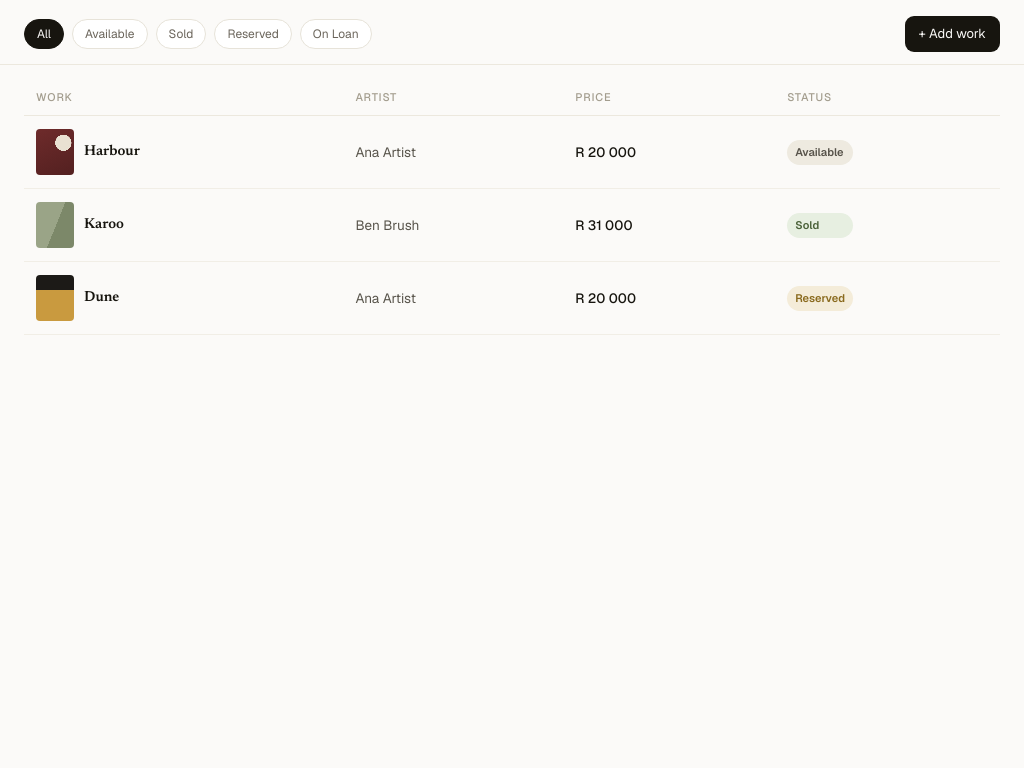
CataloguePanel adding › uses a generic message for non-Error failures
Click the button "+ Add work" at (952,34), box [905,16,1000,52]
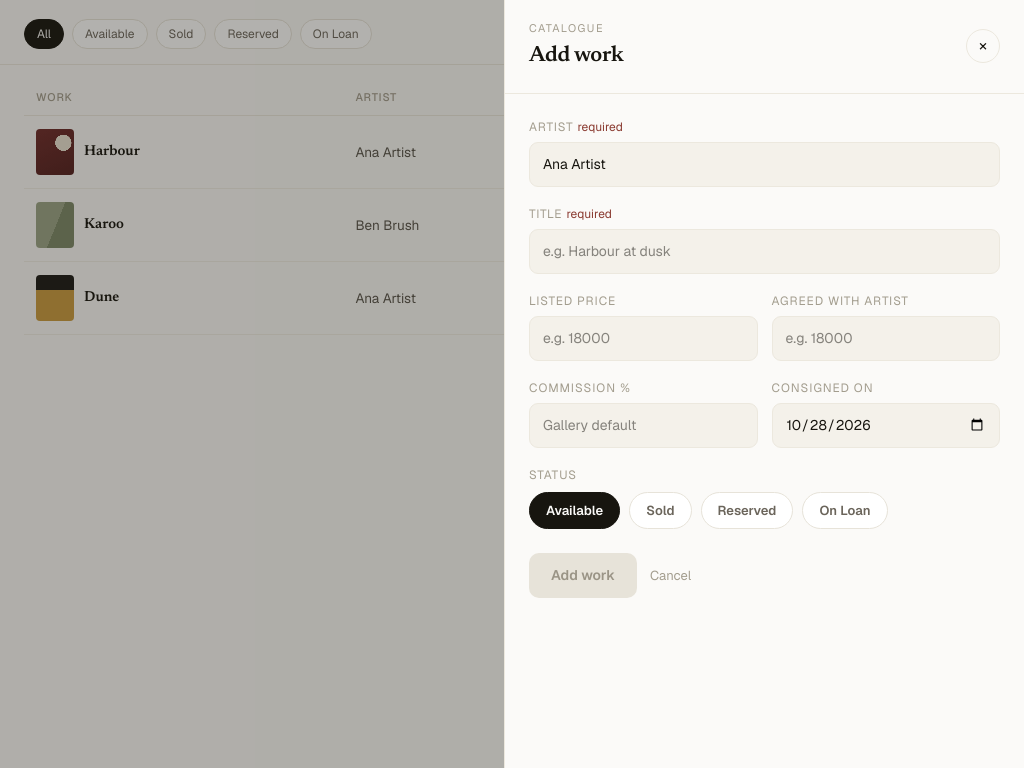
Type "Dusk" into the field labelled "Title required" at (764,251), box [529,228,1000,274]
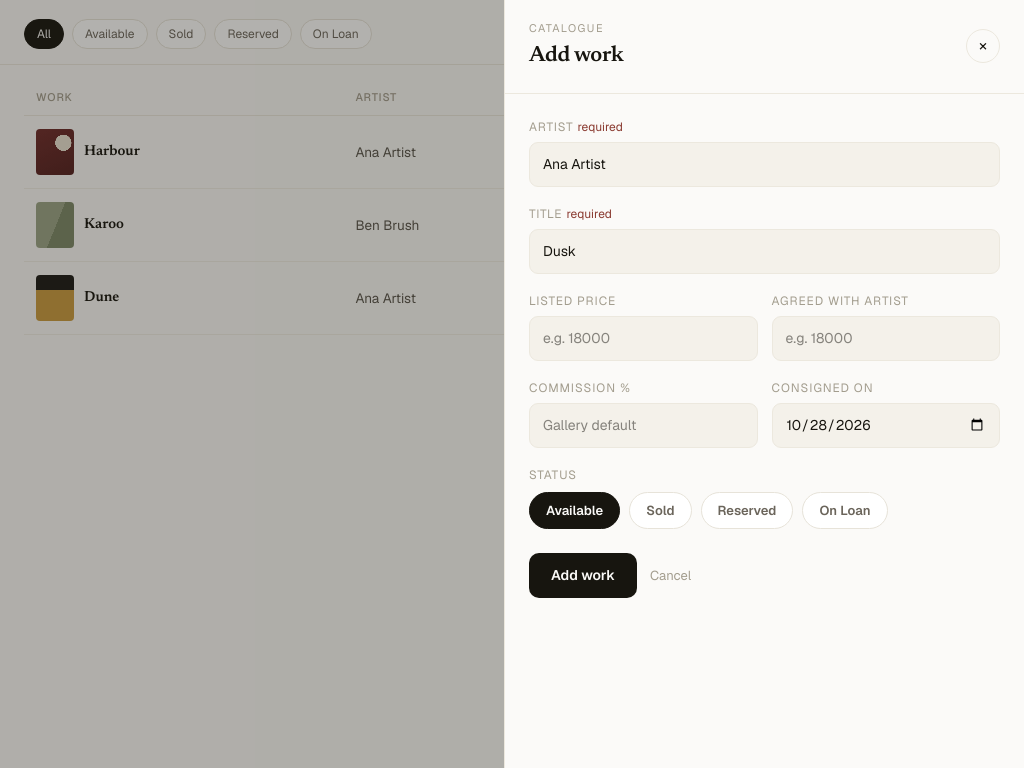
Type "12000" into the field labelled "Listed price" at (643,338), box [529,316,758,360]
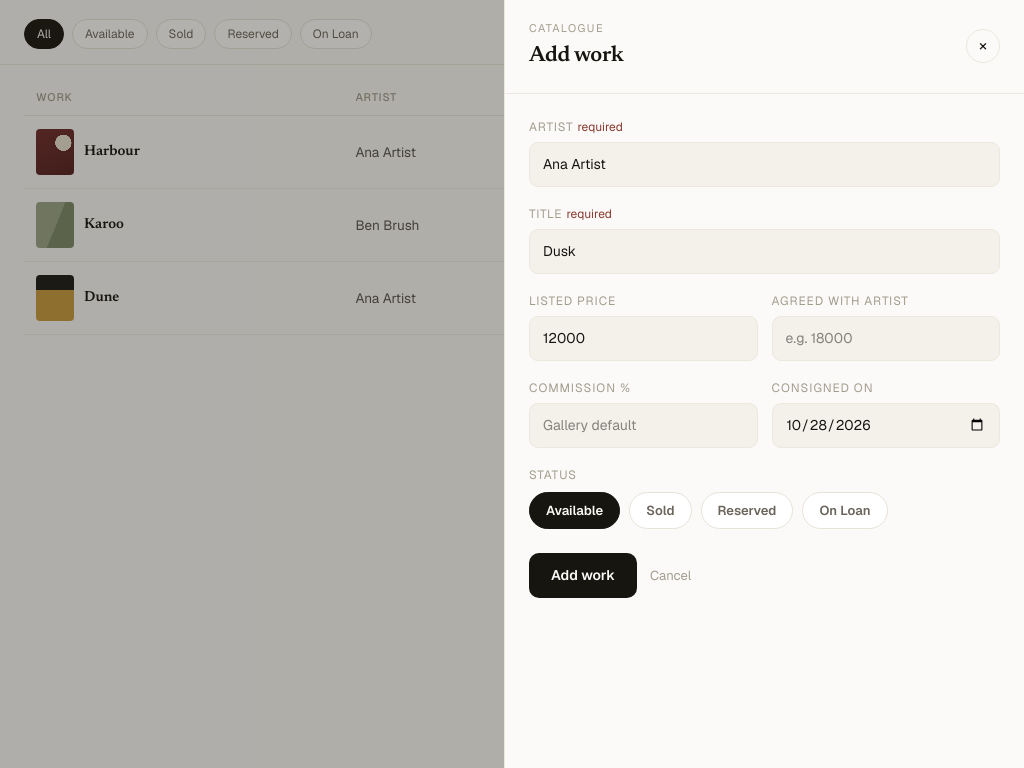
Click the button "Add work" at (583,576), box [529,553,637,598]
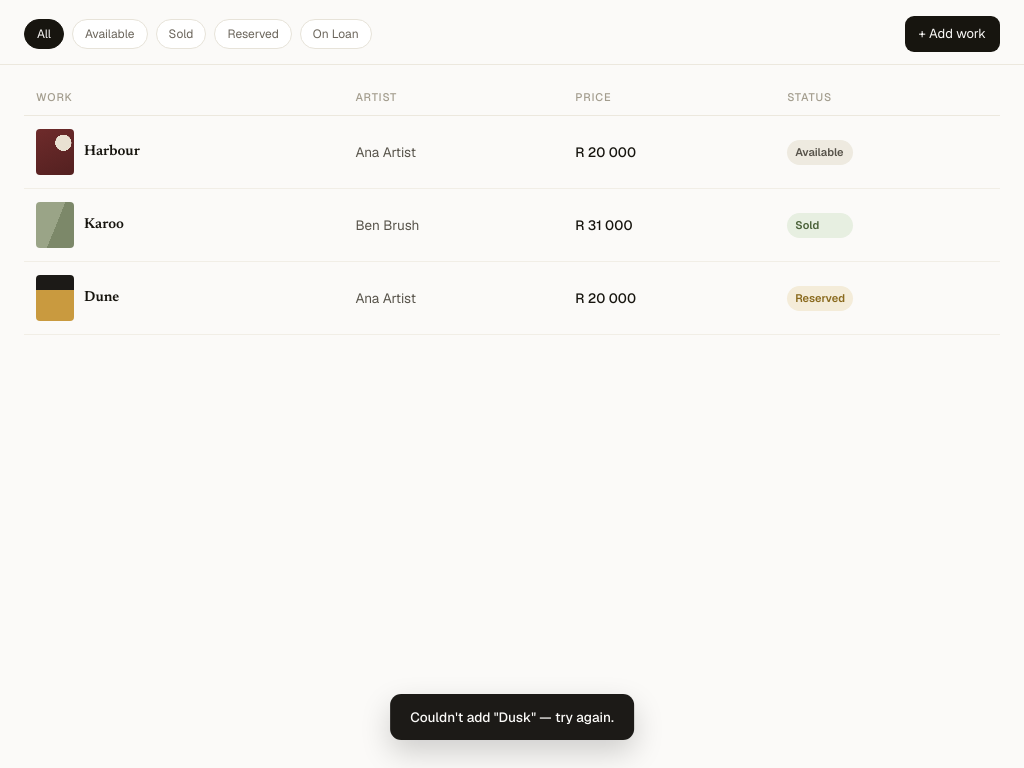
Expected: the text "Couldn't add \"Dusk\" — try again." is shown, [390,694,634,740]
